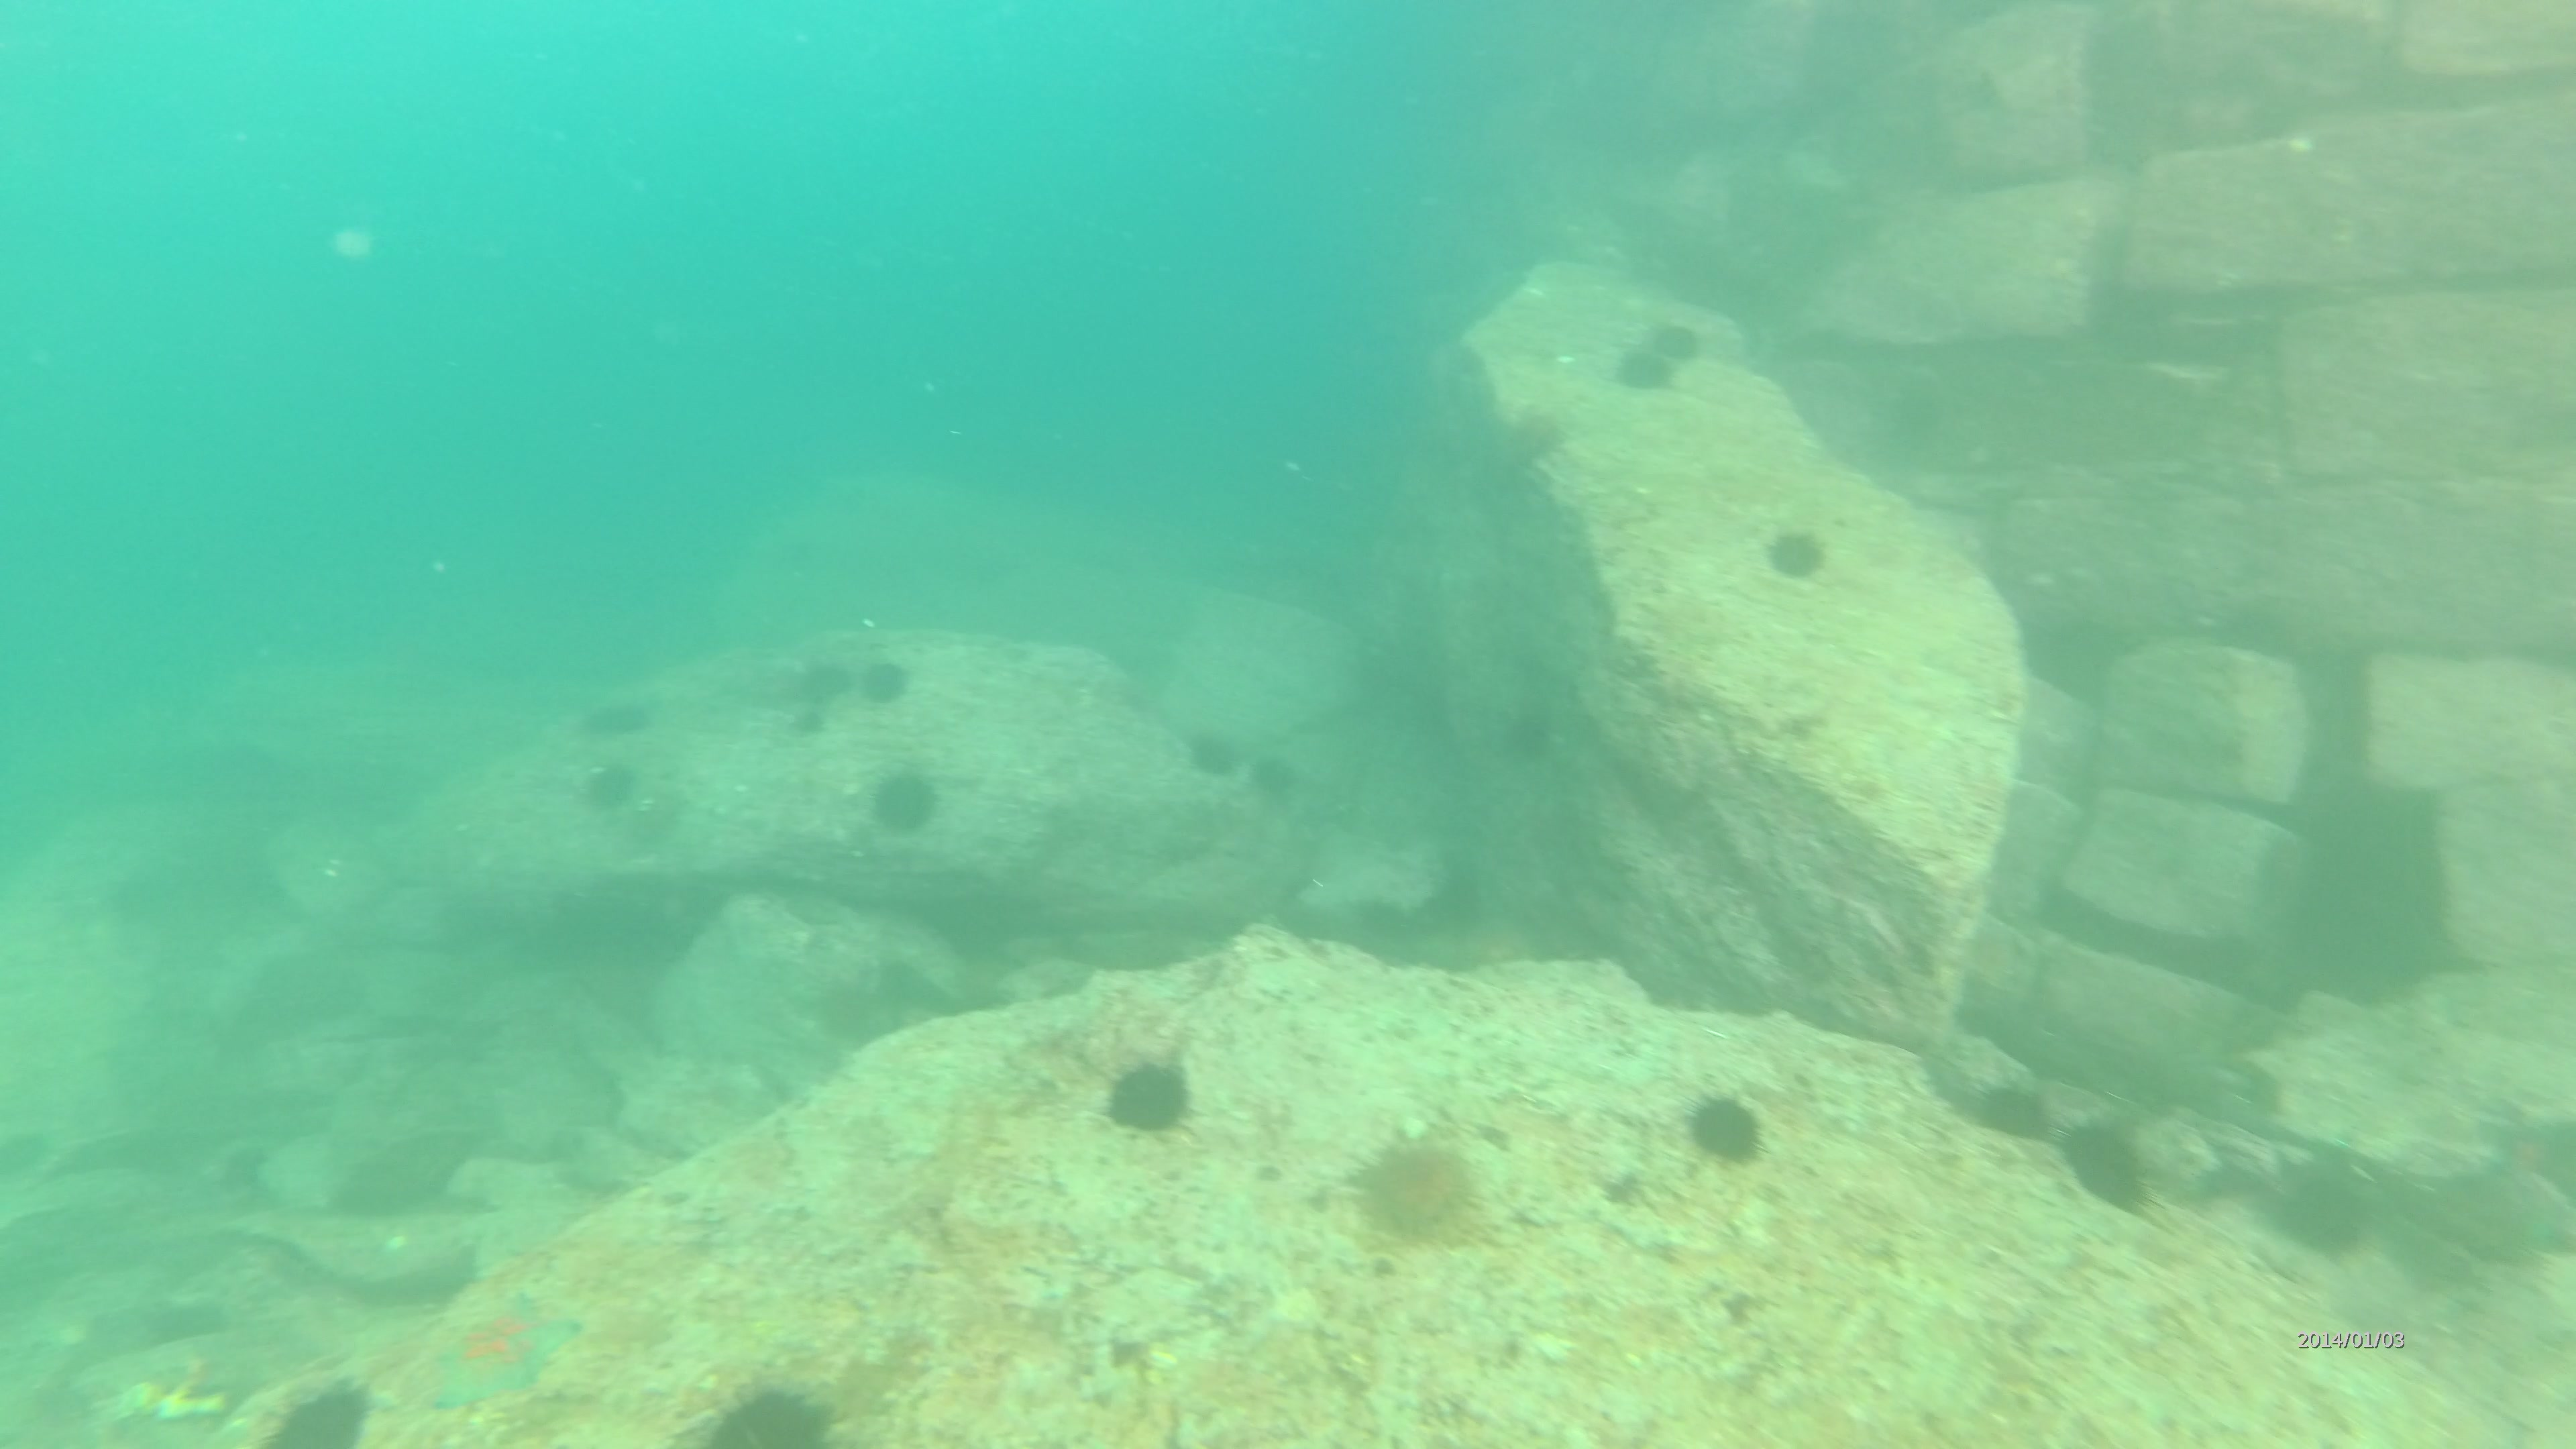echinus: (2279, 1145, 2397, 1261), (1352, 1134, 1468, 1246), (2068, 1113, 2157, 1224), (692, 1387, 833, 1449), (1106, 1054, 1187, 1143), (267, 1385, 372, 1449), (1686, 1099, 1760, 1164), (869, 775, 947, 835), (1980, 1077, 2045, 1143), (1760, 517, 1826, 580), (1240, 754, 1299, 800), (589, 755, 637, 810), (1180, 736, 1244, 777), (1624, 349, 1677, 386), (858, 658, 906, 699), (1649, 320, 1695, 361)
starfish: (430, 1299, 577, 1405)
